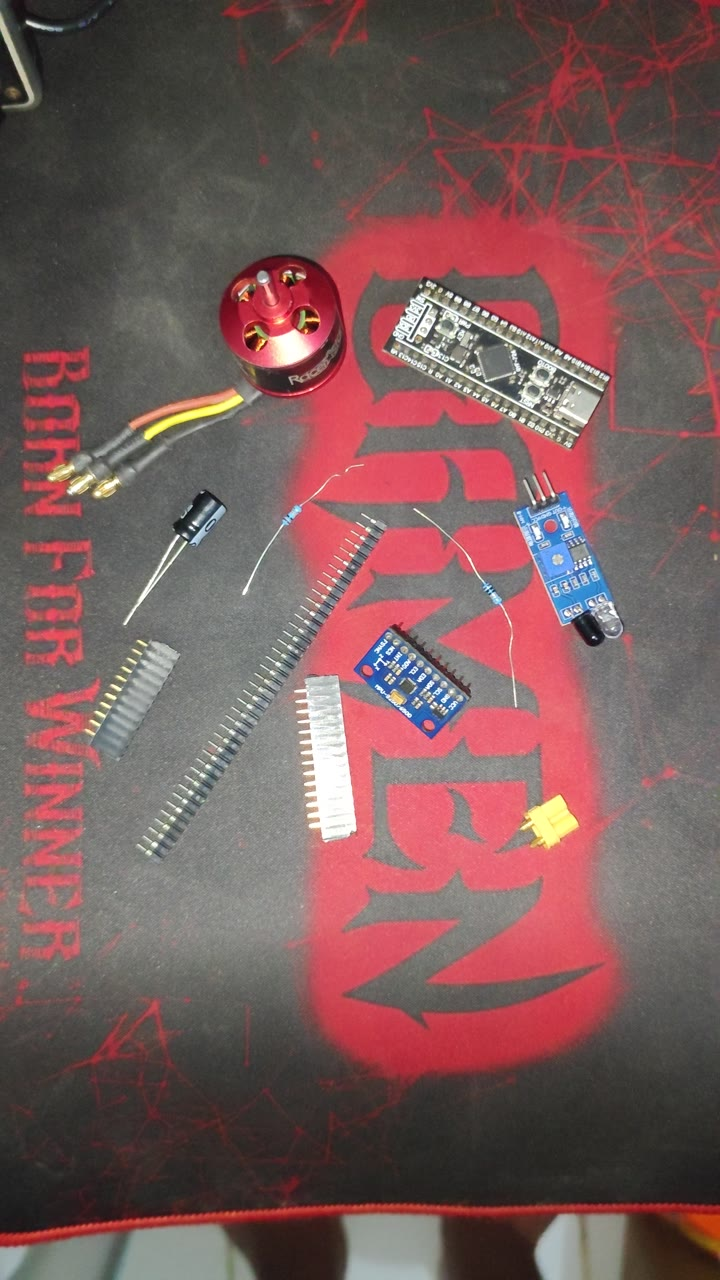bldc_motor: (119, 243, 354, 484)
elco_capacitor: (158, 486, 228, 578)
ir_sensor: (488, 490, 626, 653)
mpu6500: (348, 622, 470, 742)
pin_header: (121, 721, 266, 860), (291, 676, 358, 849), (106, 629, 160, 775)
resistor: (248, 486, 344, 569), (404, 560, 475, 649)
stm32f4: (381, 273, 617, 443)
xt30_female: (517, 791, 581, 851)
